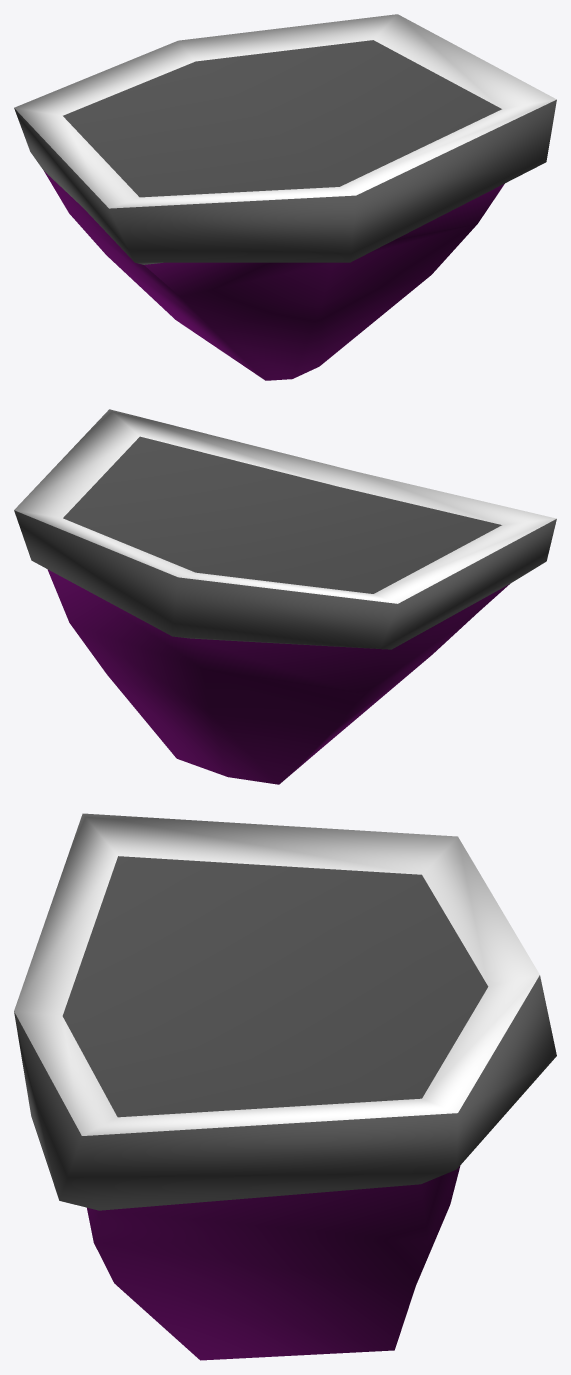
Rendered from Crotch.fbx.
3 renders of one model, top to bottom at view 1: azimuth 30°, elevation 25°; view 2: azimuth 150°, elevation 25°; view 3: azimuth 270°, elevation 25°, orthographic. The views are drawn at different scales.
Parts seen in each view (by area): view 1: Thong; view 2: Thong; view 3: Thong.
Boxes of the visible parts, bbox=[...] form: Thong: bbox=[14, 14, 556, 380]; Thong: bbox=[14, 409, 556, 784]; Thong: bbox=[14, 813, 556, 1360].
Bounding box in the file's own units: 1.4 × 0.7573 × 0.9926.
